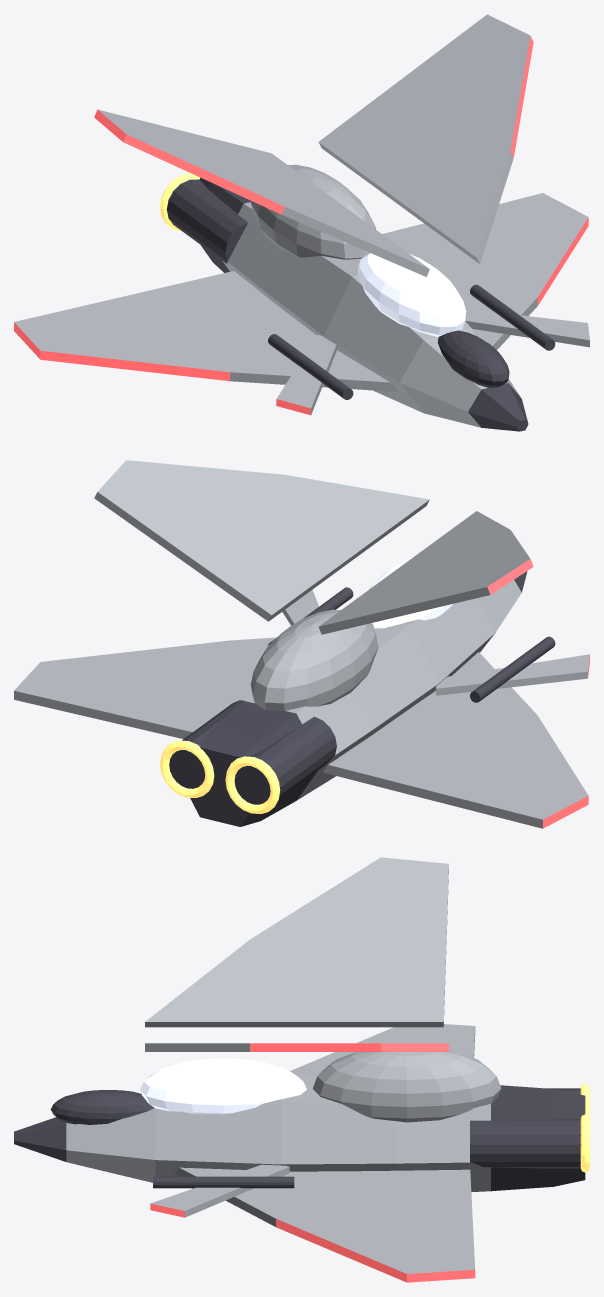
File: skyjet.glb
3 views of the same model, one above another, from view 1: azimuth 30°, elevation 25°; view 2: azimuth 150°, elevation 25°; view 3: azimuth 270°, elevation 25° (orthographic). The views are drawn at different scales.
Visible parts, largest first — view 1: skyjet_wing_upper_R, skyjet_wing_lower_L, skyjet_fuselage, skyjet_wing_lower_R, skyjet_wing_upper_L, skyjet_canopy, skyjet_engine_hump, skyjet_engine_L, skyjet_nose_ridge, skyjet_canard_R, skyjet_canard_L, skyjet_gun_L (+2 smaller); view 2: skyjet_wing_upper_R, skyjet_wing_lower_L, skyjet_fuselage, skyjet_wing_lower_R, skyjet_wing_upper_L, skyjet_engine_hump, skyjet_engine_L, skyjet_canard_L, skyjet_engine_R, skyjet_engine_ring_L, skyjet_engine_ring_R, skyjet_gun_L (+3 smaller); view 3: skyjet_wing_upper_L, skyjet_fuselage, skyjet_wing_lower_R, skyjet_engine_hump, skyjet_canopy, skyjet_engine_R, skyjet_wing_upper_R, skyjet_nose_ridge, skyjet_wing_lower_L, skyjet_canard_R, skyjet_gun_R, skyjet_engine_ring_R.
Boxes of the visible parts, x1,y1,x2,y2 form: skyjet_wing_upper_R: (318, 14, 533, 263); skyjet_wing_lower_L: (14, 271, 399, 392); skyjet_fuselage: (199, 177, 528, 431); skyjet_wing_lower_R: (382, 193, 588, 349); skyjet_wing_upper_L: (94, 109, 429, 276); skyjet_canopy: (357, 253, 466, 336); skyjet_engine_hump: (250, 164, 375, 259); skyjet_engine_L: (166, 179, 247, 264); skyjet_nose_ridge: (437, 330, 509, 387); skyjet_canard_R: (465, 309, 589, 347); skyjet_canard_L: (276, 335, 337, 415); skyjet_gun_L: (268, 334, 353, 399); skyjet_wing_upper_R: (94, 460, 429, 621); skyjet_wing_lower_L: (323, 652, 588, 828); skyjet_fuselage: (180, 571, 527, 826); skyjet_wing_lower_R: (14, 637, 276, 738); skyjet_wing_upper_L: (318, 511, 533, 634); skyjet_engine_hump: (250, 609, 378, 710); skyjet_engine_L: (235, 716, 336, 804); skyjet_canard_L: (435, 654, 589, 695); skyjet_engine_R: (169, 700, 243, 788); skyjet_engine_ring_L: (225, 756, 280, 813); skyjet_engine_ring_R: (160, 740, 214, 797); skyjet_gun_L: (470, 636, 555, 702); skyjet_wing_upper_L: (145, 857, 448, 1027); skyjet_fuselage: (14, 1076, 585, 1192); skyjet_wing_lower_R: (174, 1167, 475, 1282); skyjet_engine_hump: (313, 1049, 501, 1122); skyjet_canopy: (140, 1058, 306, 1114); skyjet_engine_R: (470, 1118, 580, 1168); skyjet_wing_upper_R: (145, 1043, 448, 1051); skyjet_nose_ridge: (50, 1090, 154, 1124); skyjet_wing_lower_L: (290, 1024, 475, 1076); skyjet_canard_R: (150, 1164, 289, 1217); skyjet_gun_R: (153, 1176, 294, 1188); skyjet_engine_ring_R: (580, 1114, 589, 1172).
Size of the model in its own units: 5.7 by 2.49 by 5.5.
